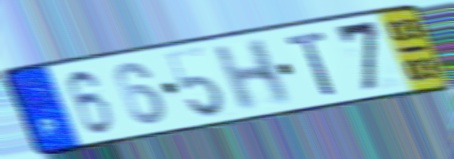5: (162, 44, 230, 121)
6: (114, 61, 170, 127), (67, 68, 117, 136)
7: (335, 18, 383, 94)
H: (211, 36, 294, 115)
T: (283, 29, 340, 98)
